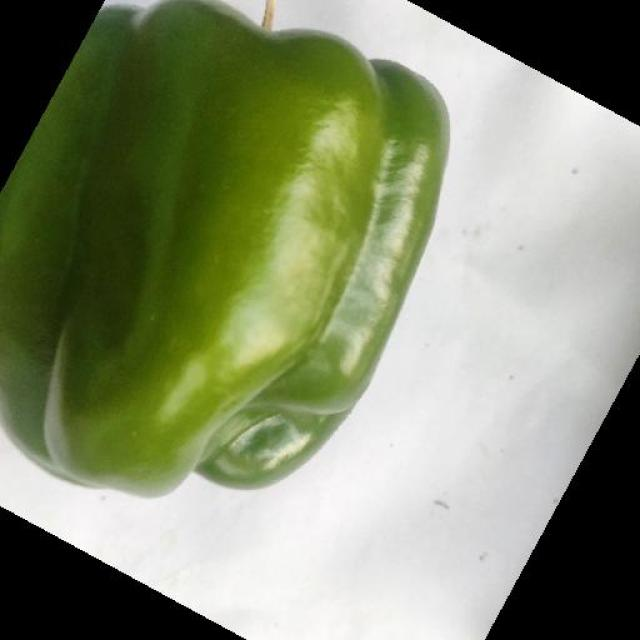Stale_Capsicum: (16, 0, 367, 448)
